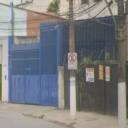NoEstacionar: (68, 51, 78, 67)
